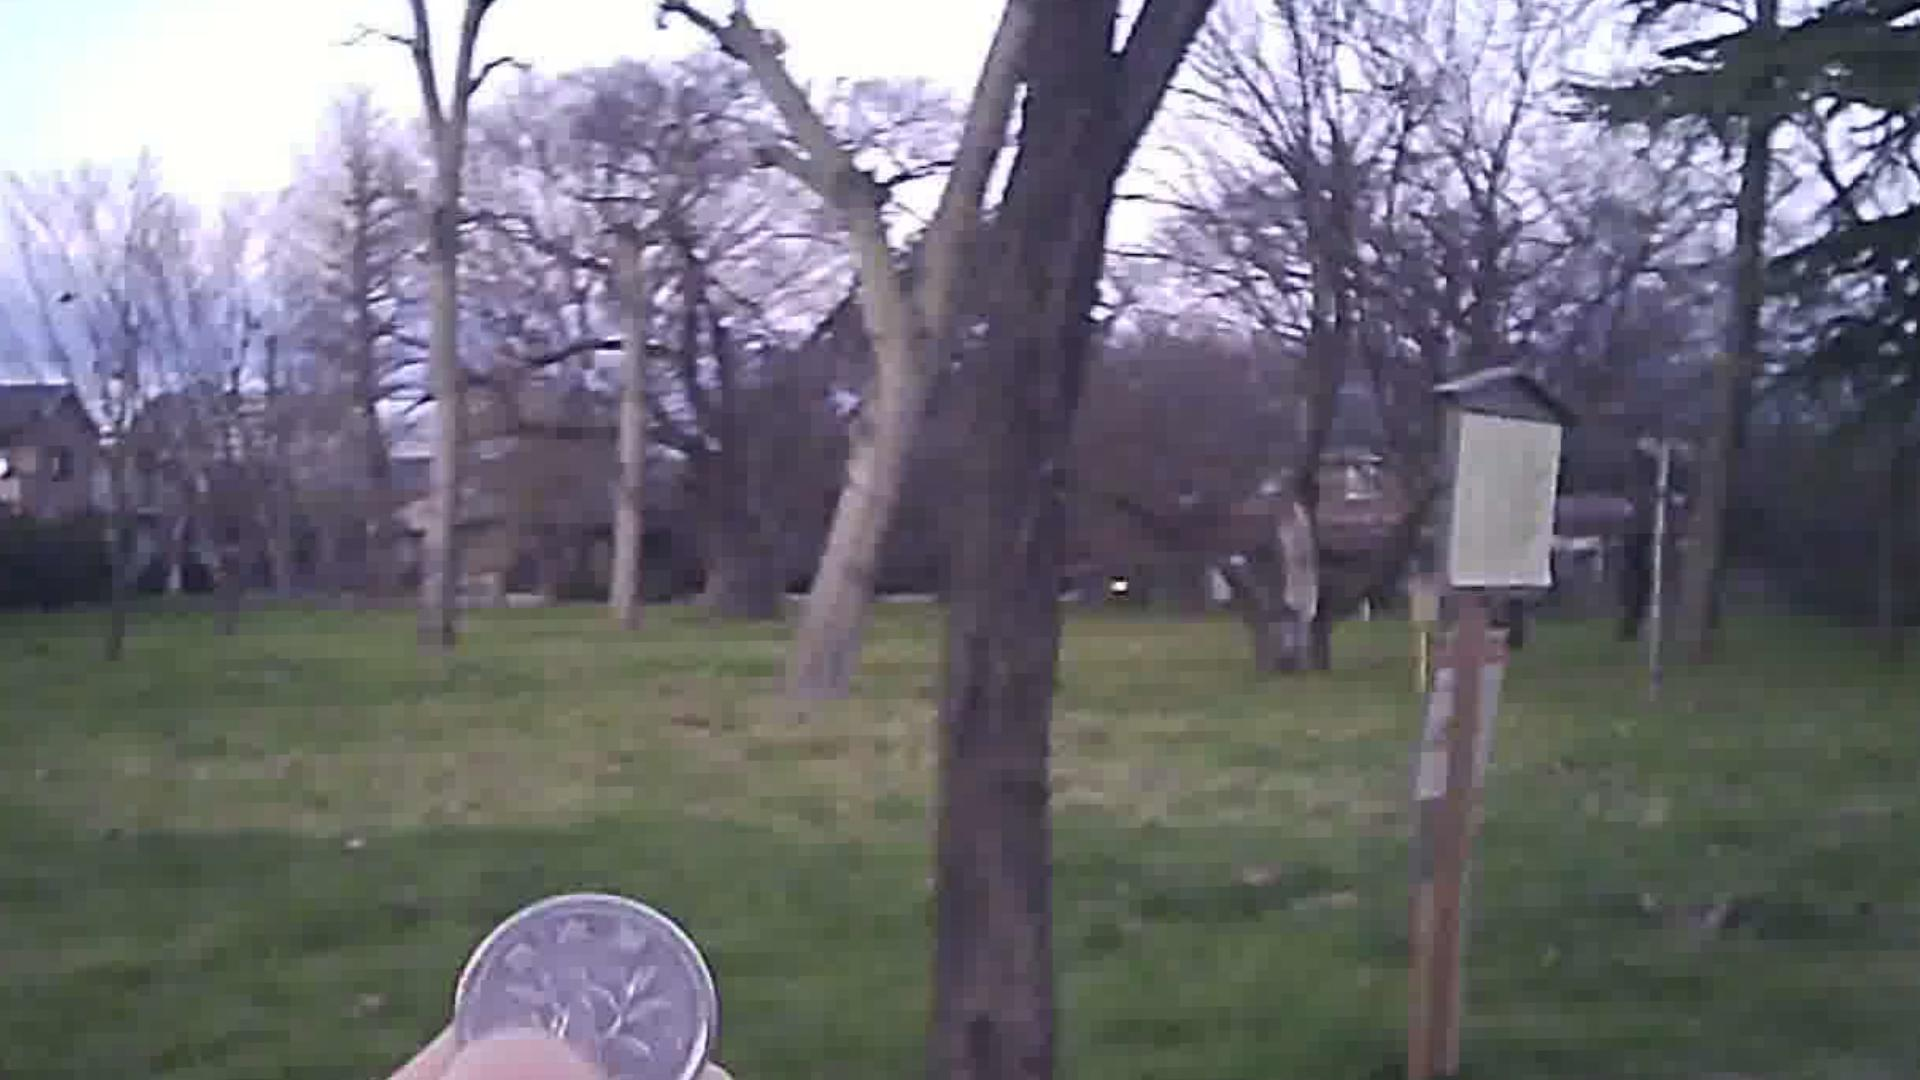1 Yen: (451, 902, 709, 1079)
